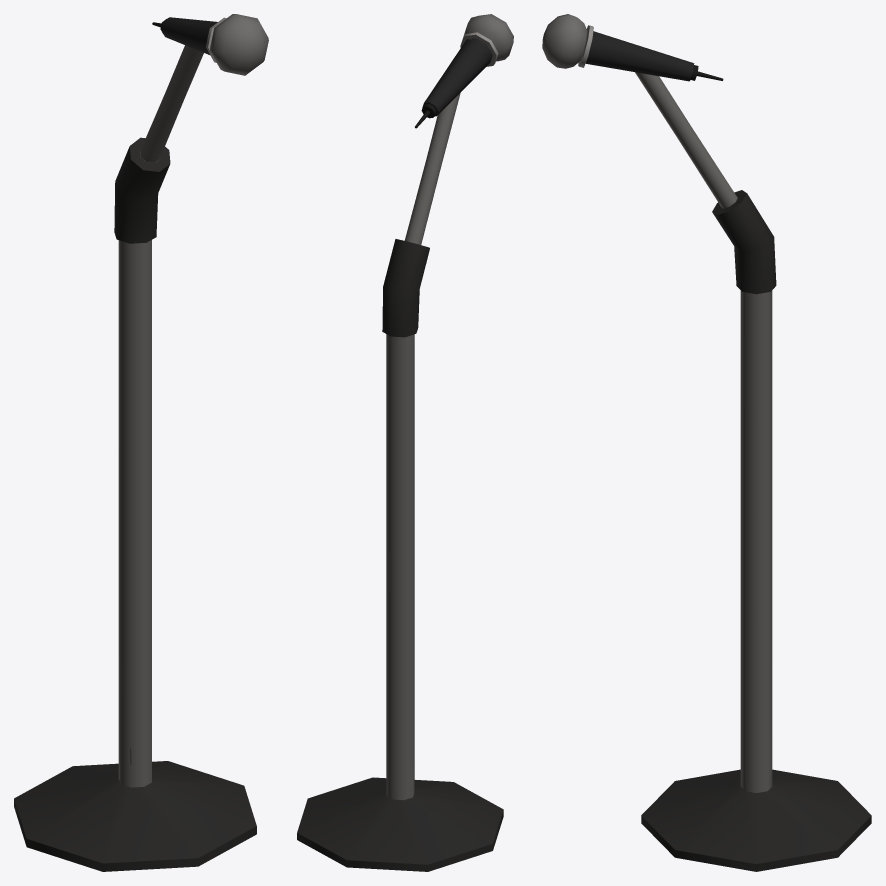
File: microfone.fbx
3 renders of one model, left to right at view 1: azimuth 30°, elevation 25°; view 2: azimuth 150°, elevation 25°; view 3: azimuth 270°, elevation 25°, orthographic. The views are drawn at different scales.
Visible parts, largest first — view 1: microfone; view 2: microfone; view 3: microfone.
Boxes of the visible parts, x1=… form: microfone: x1=14, y1=14, x2=268, y2=871; microfone: x1=297, y1=14, x2=513, y2=871; microfone: x1=542, y1=14, x2=871, y2=871.
Size of the model in its own units: 120 by 462 by 171.
